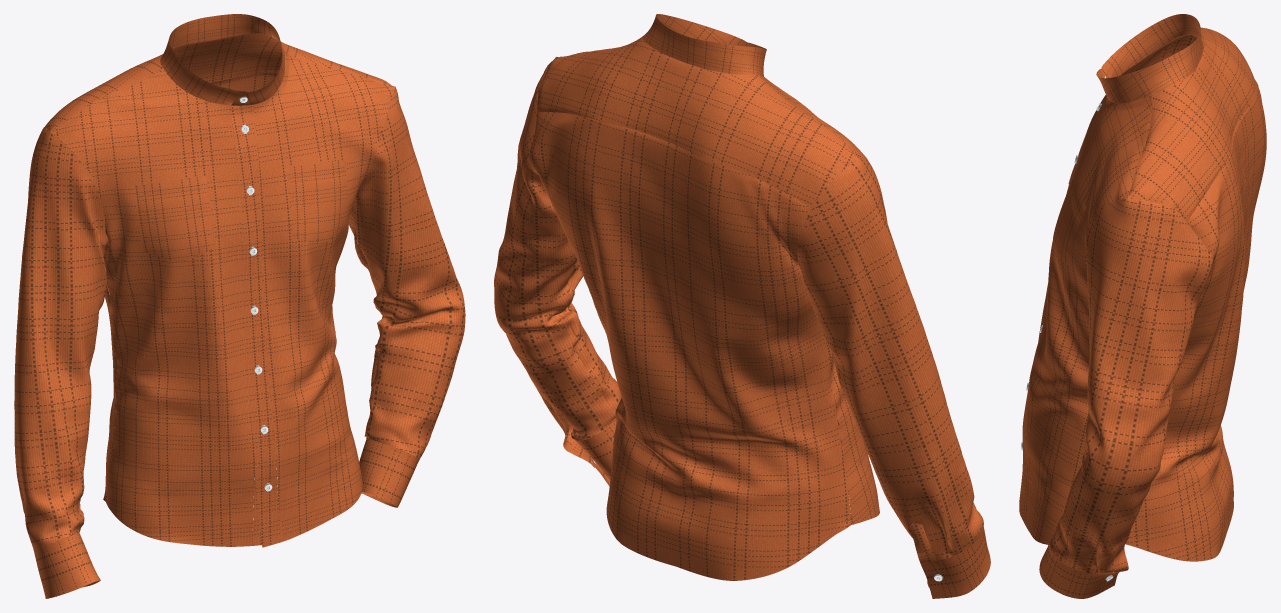
3 views of the same model, side by side, from view 1: azimuth 30°, elevation 25°; view 2: azimuth 150°, elevation 25°; view 3: azimuth 270°, elevation 25° (orthographic). The views are drawn at different scales.
Parts seen in each view (by area): view 1: Front__Fabric, Sleeve-1, Pocket__Fabric, Back__Fabric, Collar-1; view 2: Back__Fabric, Sleeve-1, Collar-1, Front__Fabric; view 3: Back__Fabric, Sleeve-1, Front__Fabric, Collar-1, Pocket__Fabric.
Boxes of the visible parts, x1,y1,x2,y2 form: Front__Fabric: [52, 53, 395, 547]; Sleeve-1: [14, 86, 465, 598]; Pocket__Fabric: [134, 160, 347, 262]; Back__Fabric: [44, 33, 394, 501]; Collar-1: [160, 14, 284, 105]; Back__Fabric: [527, 37, 860, 580]; Sleeve-1: [494, 57, 990, 598]; Collar-1: [641, 14, 766, 76]; Front__Fabric: [758, 74, 879, 524]; Back__Fabric: [1125, 27, 1266, 561]; Sleeve-1: [1039, 35, 1213, 598]; Front__Fabric: [1019, 35, 1186, 544]; Collar-1: [1096, 14, 1203, 103]; Pocket__Fabric: [1053, 164, 1086, 266].
Size of the model in its own units: 1.53 by 1.69 by 0.7192.
2 materials, 1 textured.
